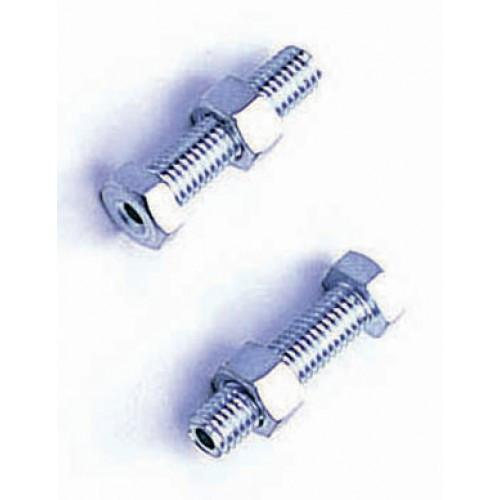Tornillo: (92, 41, 327, 255), (186, 250, 411, 462)
